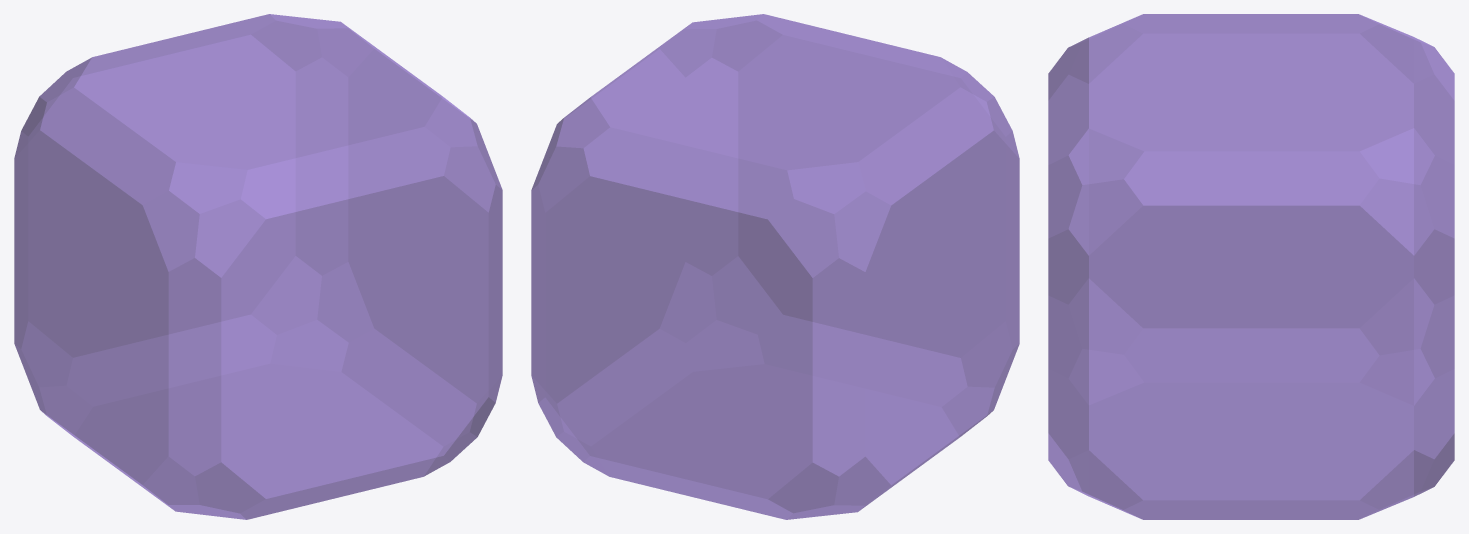
File: Gem_New_12.fbx
3 views of the same model, side by side, from view 1: azimuth 30°, elevation 25°; view 2: azimuth 150°, elevation 25°; view 3: azimuth 270°, elevation 25° (orthographic). The views are drawn at different scales.
Parts seen in each view (by area): view 1: Model; view 2: Model; view 3: Model.
Part boxes in pixels (bbox=[...]): Model: bbox=[14, 14, 502, 519]; Model: bbox=[531, 14, 1019, 519]; Model: bbox=[1048, 14, 1454, 519].
Bounding box in the file's own units: 184 × 184 × 184.
